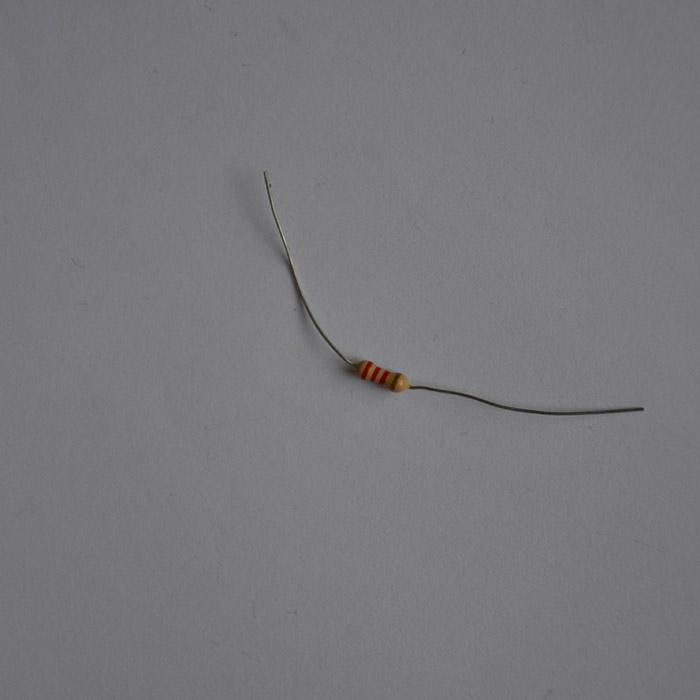resistor: (357, 358, 407, 392)
